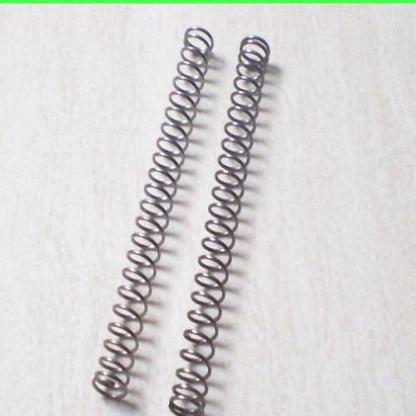FOD: (92, 23, 215, 405), (169, 33, 272, 415)
